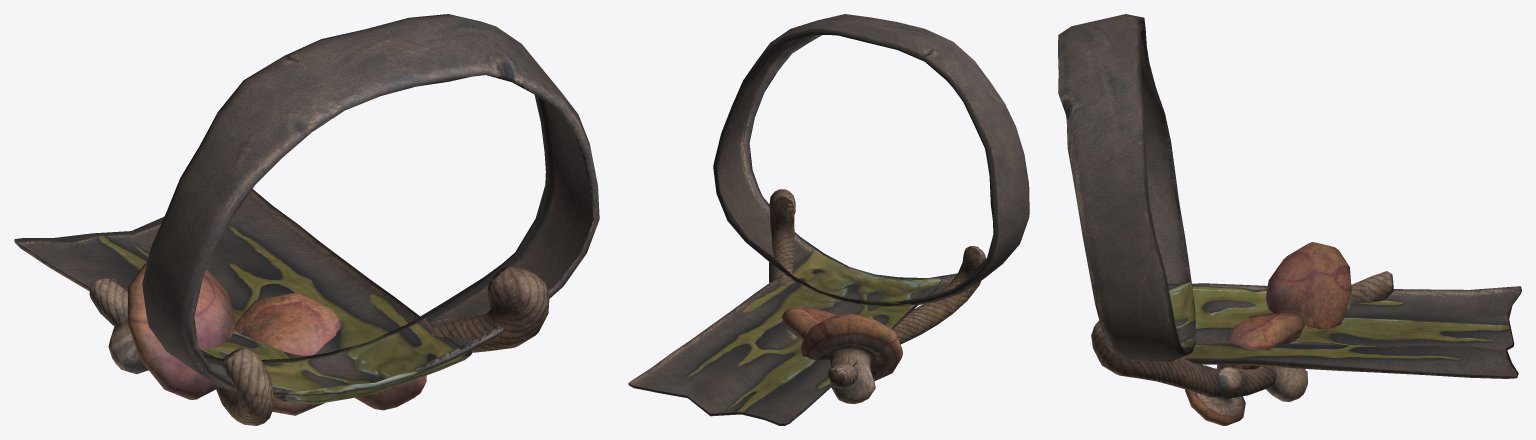
Rendered from sm_human_mushroom_belt.gltf.
The picture shows the model from 3 angles, left to right: view 1: azimuth 30°, elevation 25°; view 2: azimuth 150°, elevation 25°; view 3: azimuth 270°, elevation 25°; orthographic projection. The views are drawn at different scales.
Visible parts, largest first — view 1: sm_human_mushroom_belt; view 2: sm_human_mushroom_belt; view 3: sm_human_mushroom_belt.
Boxes of the visible parts, bbox=[...] form: sm_human_mushroom_belt: bbox=[14, 14, 599, 425]; sm_human_mushroom_belt: bbox=[628, 14, 1029, 425]; sm_human_mushroom_belt: bbox=[1058, 14, 1521, 425].
Bounding box in the file's own units: 36.74 × 36.22 × 42.84.
1 material, 1 textured.
